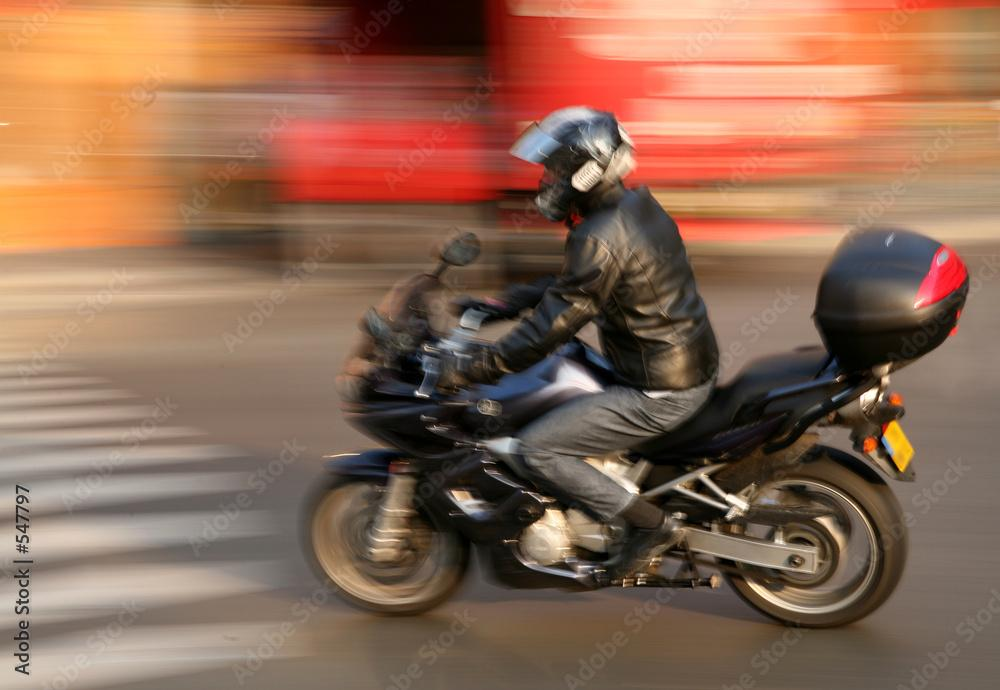helmet: (506, 104, 638, 230)
